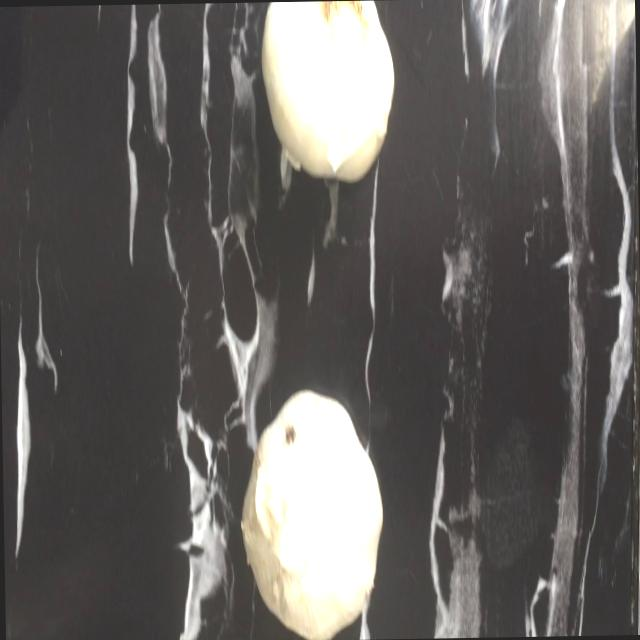bawang: (233, 378, 388, 640), (250, 0, 398, 190)
